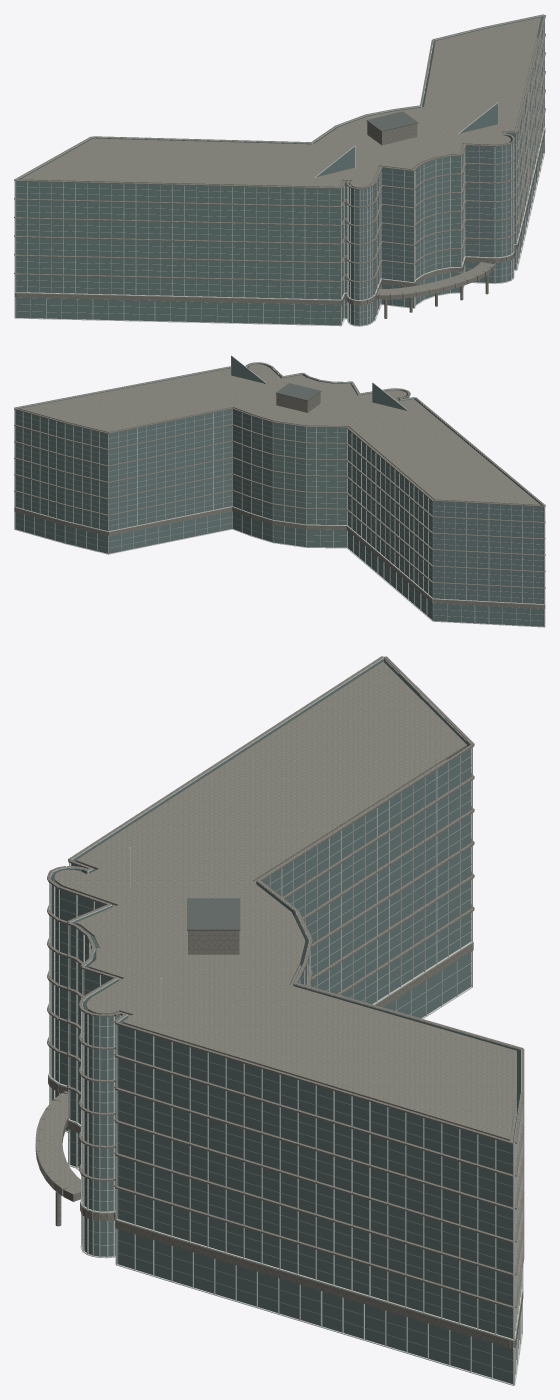
3 renders of one model, top to bottom at view 1: azimuth 30°, elevation 25°; view 2: azimuth 150°, elevation 25°; view 3: azimuth 270°, elevation 25°, orthographic. The views are drawn at different scales.
Visible parts, largest first — view 1: scienceCenter__glass, scienceCenter__stone, scienceCenter__light, scienceCenter__cream, scienceCenter__roof; view 2: scienceCenter__glass, scienceCenter__stone, scienceCenter__light, scienceCenter__cream, scienceCenter__roof; view 3: scienceCenter__glass, scienceCenter__stone, scienceCenter__light, scienceCenter__cream, scienceCenter__roof.
Part boxes in pixels (x1,y1,x2,y2): scienceCenter__glass: (15, 16, 544, 325); scienceCenter__stone: (14, 17, 545, 318); scienceCenter__light: (14, 15, 544, 326); scienceCenter__cream: (14, 14, 545, 282); scienceCenter__roof: (366, 111, 418, 131); scienceCenter__glass: (15, 356, 544, 626); scienceCenter__stone: (14, 364, 545, 608); scienceCenter__light: (14, 355, 545, 627); scienceCenter__cream: (14, 362, 545, 589); scienceCenter__roof: (276, 383, 321, 401); scienceCenter__glass: (51, 659, 520, 1383); scienceCenter__stone: (35, 661, 523, 1348); scienceCenter__light: (48, 657, 522, 1385); scienceCenter__cream: (47, 656, 524, 1308); scienceCenter__roof: (187, 898, 240, 930).
Size of the model in its own units: 112 by 30.24 by 47.55.
Materials: 5 (2 with a texture image).
